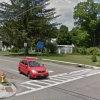Car: (16, 54, 58, 84)
